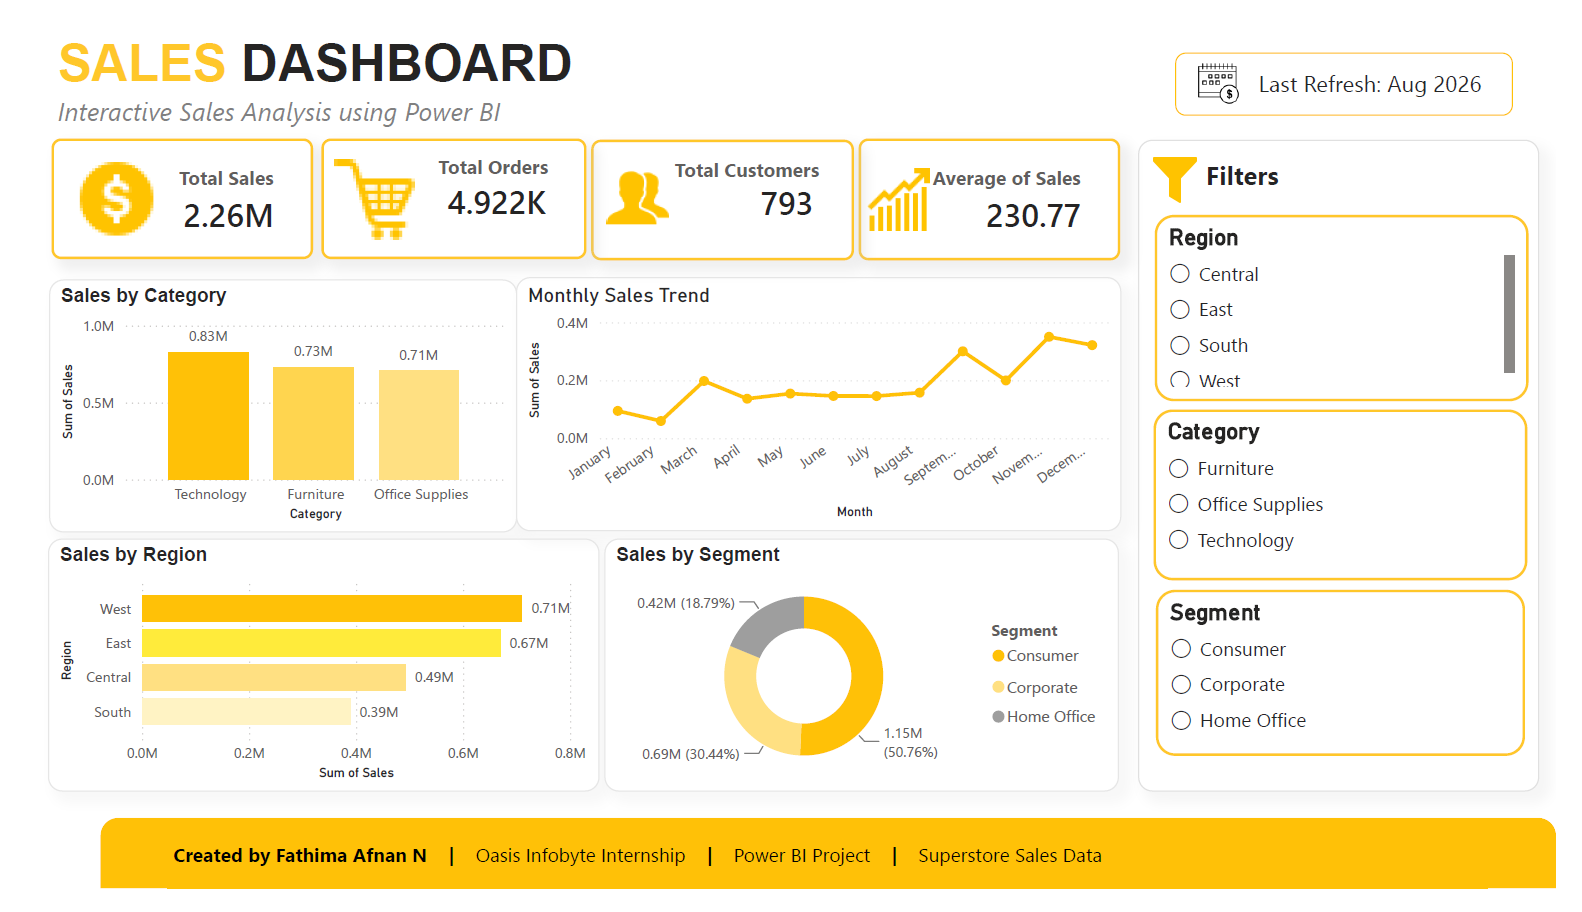

The page's visual inventory and layout, read from the dashboard file:
{"tool":"powerbi","page":{"name":"Page 1","canvas":[1280,720],"ordinal":0},"visuals":[{"type":"cardVisual","fields":{"Data":["Count(Superstore.Order ID)"]},"box":[939.8,25.3,252.1,158],"z":0},{"type":"cardVisual","fields":{"Data":["Count(Superstore.Customer ID)"]},"box":[1024.3,546.5,240.1,136.3],"z":1000},{"type":"cardVisual","fields":{"Data":["Avg(Superstore.Sales)"]},"box":[1041.2,205.1,209.9,154.4],"z":2000},{"type":"clusteredColumnChart","title":"Sales by Category","fields":{"Category":["Superstore.Category"],"Y":["Sum(Superstore.Sales)"]},"box":[153.2,196.6,339,254.6],"z":3000},{"type":"clusteredBarChart","title":"Sales by Region","fields":{"Category":["Superstore.Region"],"Y":["Sum(Superstore.Sales)"]},"box":[153.2,465.7,415,229.2],"z":4000},{"type":"donutChart","fields":{"Category":["Superstore.Segment"],"Y":["Sum(Superstore.Sales)"]},"box":[582.7,465.7,419.8,229.2],"z":5000},{"type":"lineChart","title":"Monthly Sales Trend","fields":{"Y":["Sum(Superstore.Sales)"],"Category":["Superstore.Order Date.Variation.Date Hierarchy.Month"]},"box":[499.5,196.6,503.1,254.6],"z":6000},{"type":"textbox","box":[9.7,16.9,516.4,121.9],"z":7000},{"type":"cardVisual","fields":{"Data":["Sum(Superstore.Sales)"]},"box":[1026.7,389.7,237.7,137.5],"z":8000},{"type":"shape","box":[9.7,8.4,96.5,666],"z":9000},{"type":"image","box":[26.5,36.2,70,55.5],"z":10000},{"type":"image","box":[33.8,161.7,62.7,59.1],"z":11000},{"type":"image","box":[15.7,287.1,80.8,63.9],"z":12000},{"type":"image","box":[26.5,416.2,70,84.5],"z":13000},{"type":"image","box":[26.5,541.7,70,73.6],"z":14000}]}

Visuals, with their boxes in screenshot pixels (x1, y1, x2, y2), scaled from the page's 1280x720 canvas onto the 1582x912 screenshot:
cardVisual - Count(Superstore.Order ID): {"left": 1162, "top": 32, "right": 1473, "bottom": 232}
cardVisual - Count(Superstore.Customer ID): {"left": 1266, "top": 692, "right": 1563, "bottom": 865}
cardVisual - Avg(Superstore.Sales): {"left": 1287, "top": 260, "right": 1546, "bottom": 455}
"Sales by Category" clusteredColumnChart: {"left": 189, "top": 249, "right": 608, "bottom": 572}
"Sales by Region" clusteredBarChart: {"left": 189, "top": 590, "right": 702, "bottom": 880}
donutChart - Superstore.Segment x Sum(Superstore.Sales): {"left": 720, "top": 590, "right": 1239, "bottom": 880}
"Monthly Sales Trend" lineChart: {"left": 617, "top": 249, "right": 1239, "bottom": 572}
textbox: {"left": 12, "top": 21, "right": 650, "bottom": 176}
cardVisual - Sum(Superstore.Sales): {"left": 1269, "top": 494, "right": 1563, "bottom": 668}
shape: {"left": 12, "top": 11, "right": 131, "bottom": 854}
image: {"left": 33, "top": 46, "right": 119, "bottom": 116}
image: {"left": 42, "top": 205, "right": 119, "bottom": 280}
image: {"left": 19, "top": 364, "right": 119, "bottom": 445}
image: {"left": 33, "top": 527, "right": 119, "bottom": 634}
image: {"left": 33, "top": 686, "right": 119, "bottom": 779}
